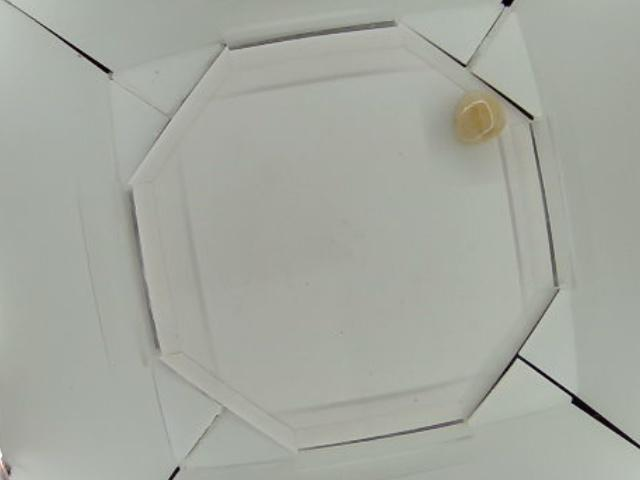Pebble: (450, 92, 509, 146)
